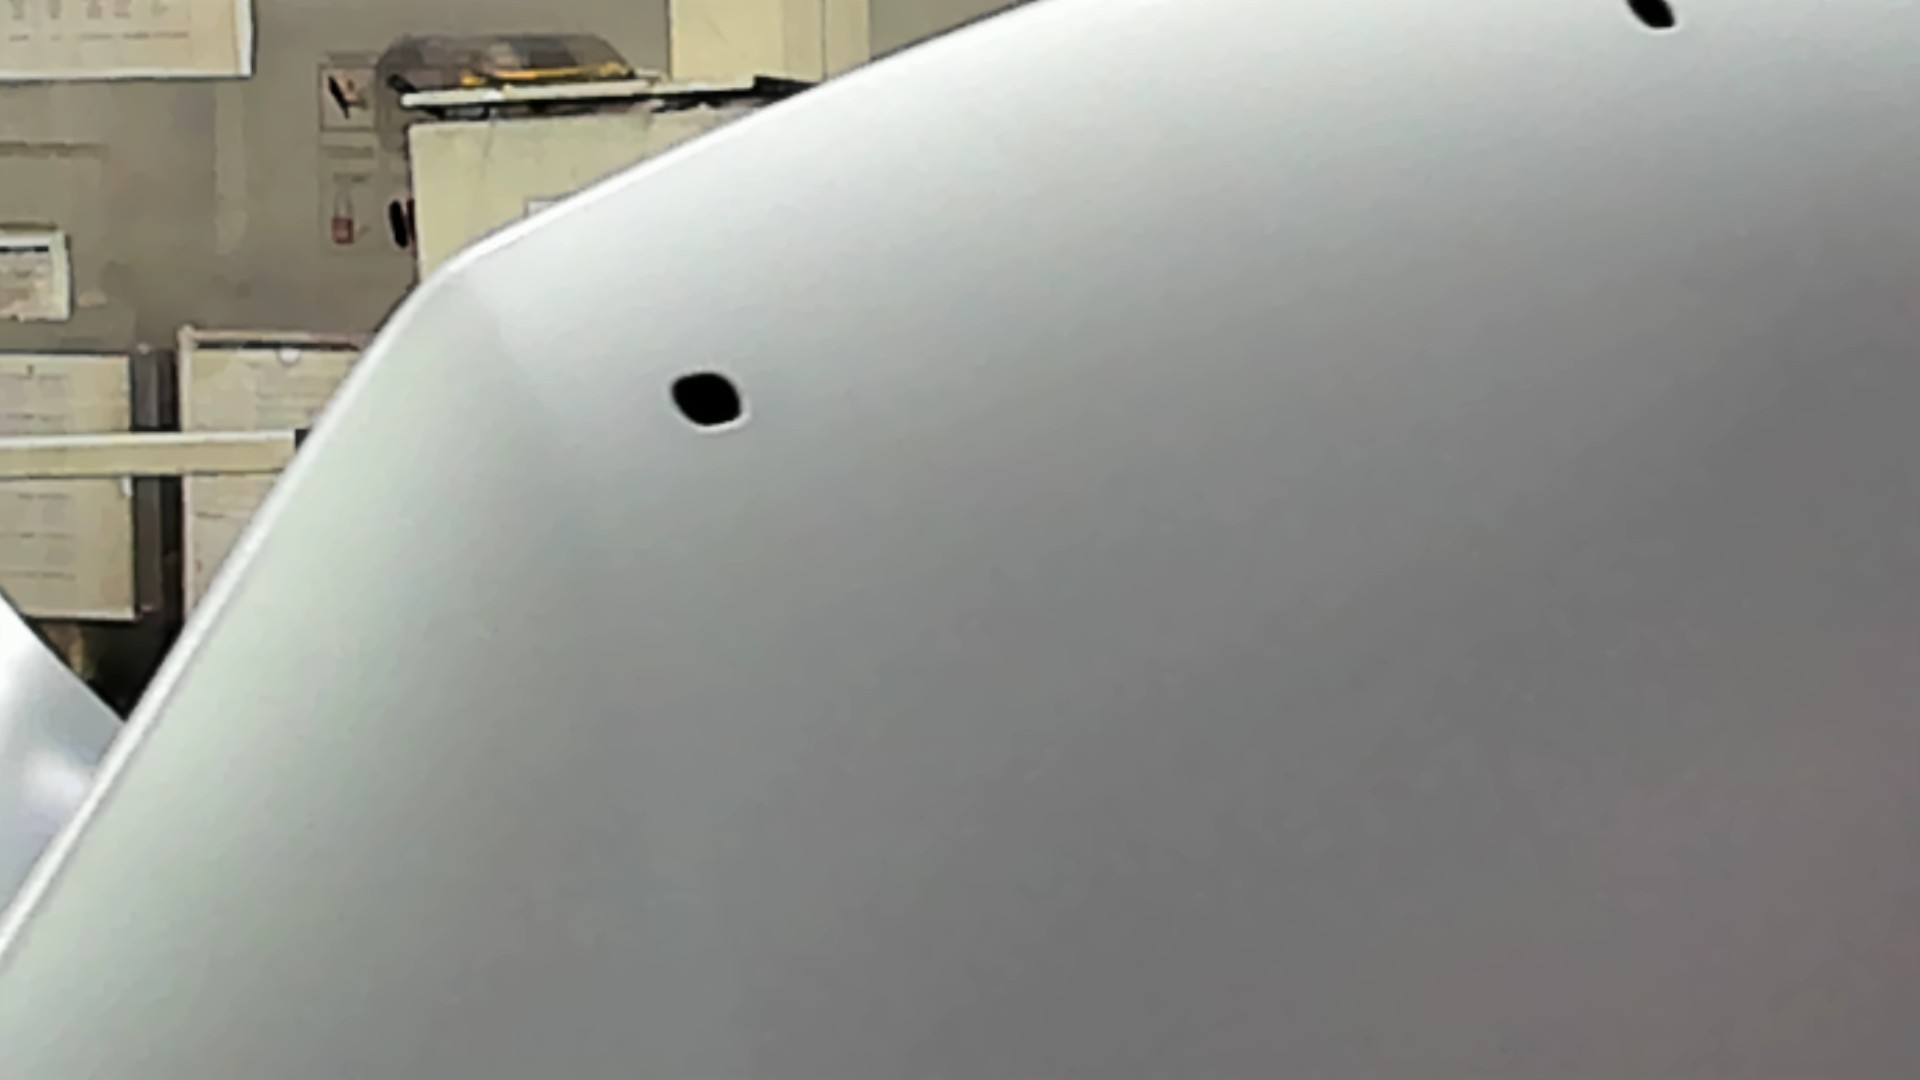amorfo: (661, 364, 750, 433), (1623, 1, 1687, 36)
capo: (822, 116, 1920, 1080)
